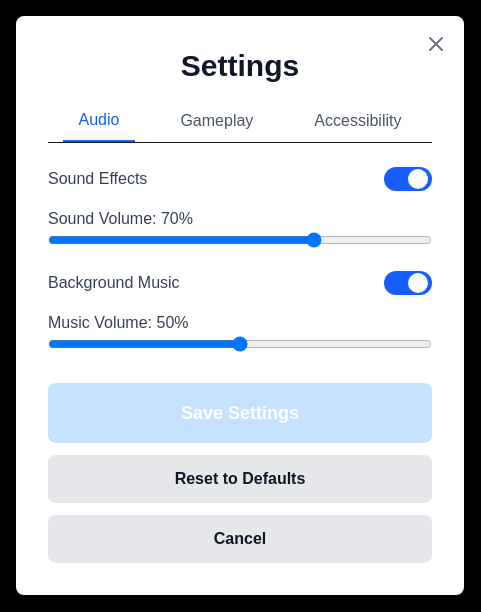
Test: SettingsMenu › toggles auto-save and shows interval options
The width and height of the screenshot is (481, 612).
What coordinates should you click on to do the following:
click the button "Gameplay"
I would click on:
 (217, 124)
Its box is x1=164 y1=108 x2=269 y2=142.
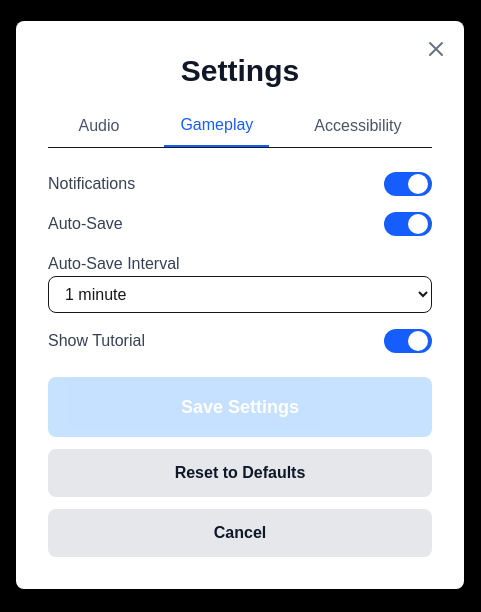
expect the text "Auto-Save Interval" is shown: met, box x1=48 y1=255 x2=180 y2=272
What coordinates should you click on to do the following:
click the switch named "Auto-Save"
I would click on:
 (408, 224)
Its box is x1=384 y1=212 x2=432 y2=236.
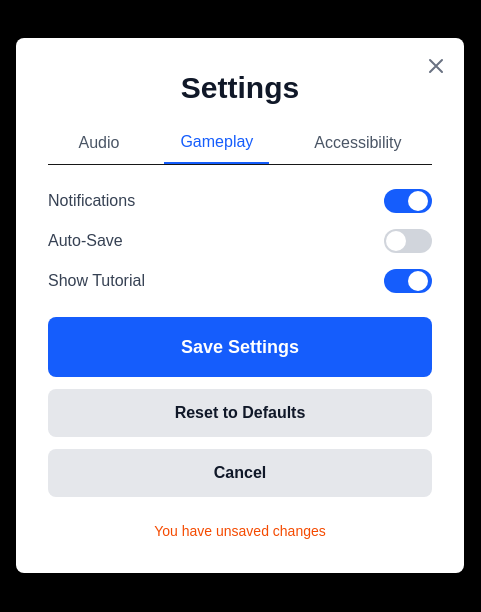
expect the text "Auto-Save Interval" is gone: met
